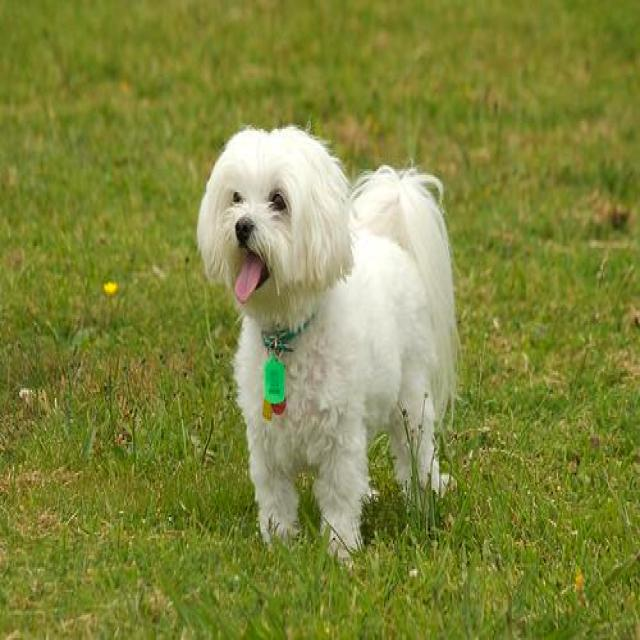maltese_dog: (194, 125, 460, 563)
